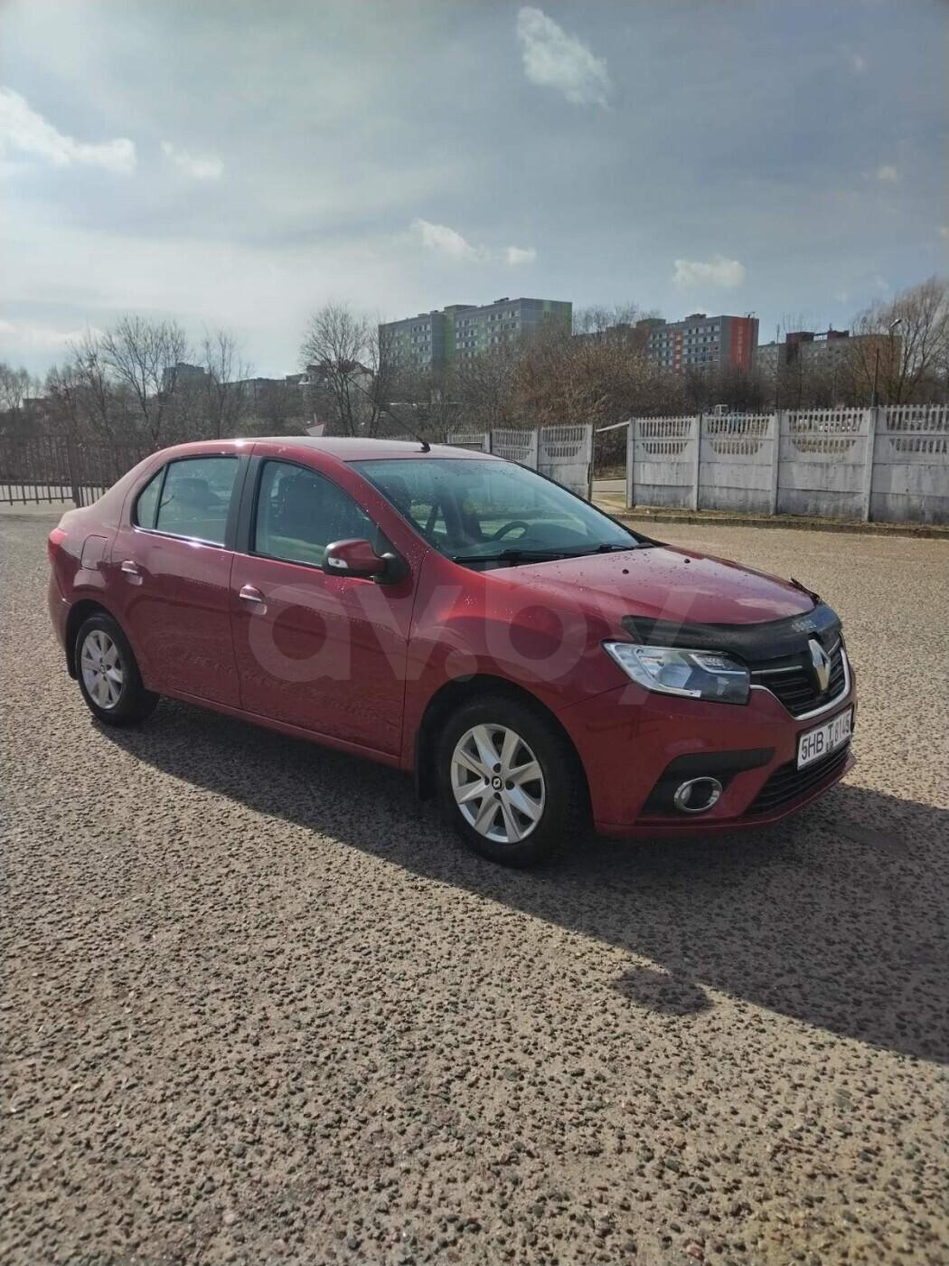Logan_2018: (38, 430, 866, 877)
